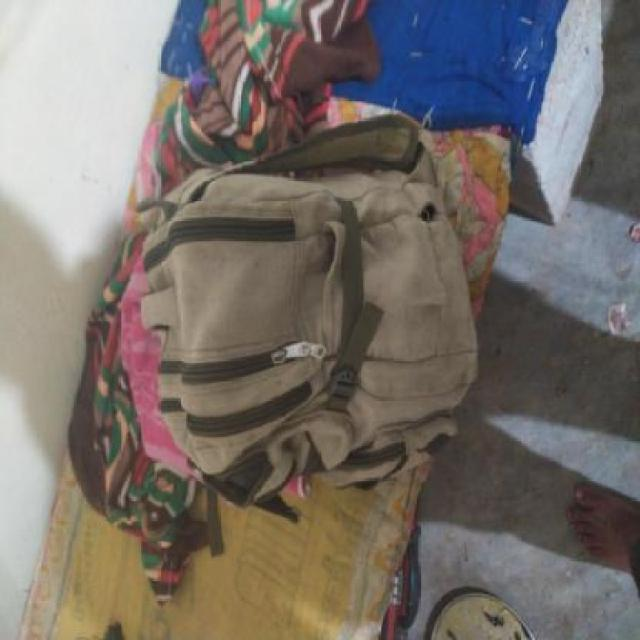backpack: (136, 109, 484, 522)
